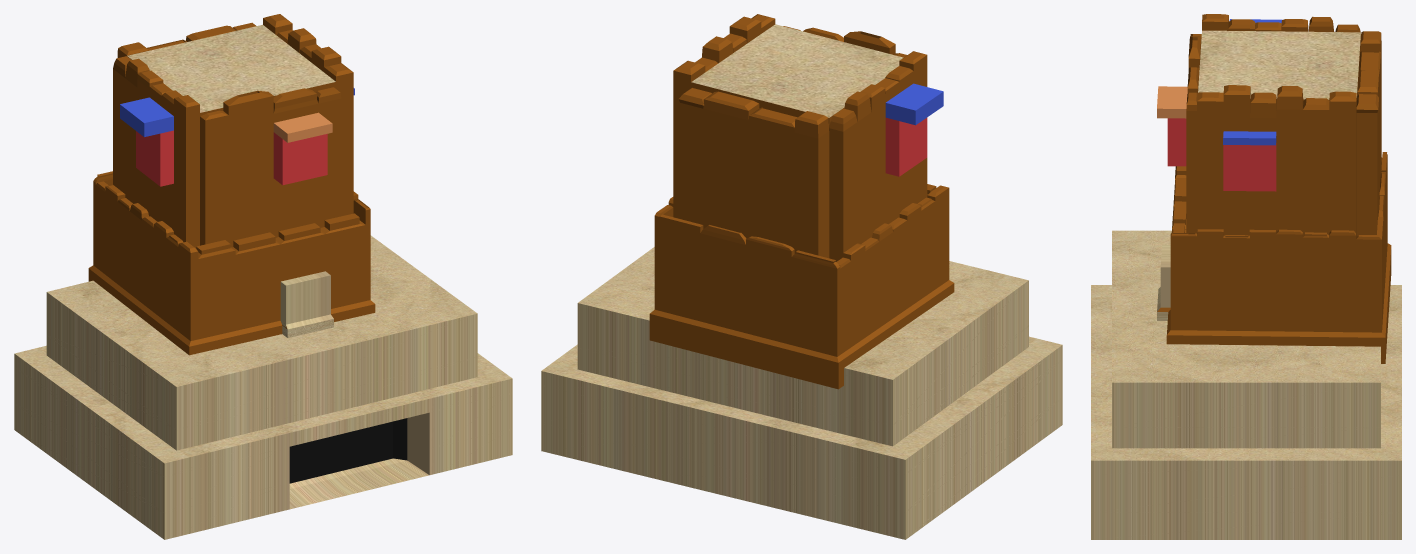
The model's file is temple1.fbx.
3 renders of one model, left to right at view 1: azimuth 30°, elevation 25°; view 2: azimuth 150°, elevation 25°; view 3: azimuth 270°, elevation 25°, orthographic. The views are drawn at different scales.
Visible parts, largest first — view 1: Plane.002; view 2: Plane.002; view 3: Plane.002.
Part boxes in pixels (left/top/right/bottom): Plane.002: left=14, top=14, right=512, bottom=539; Plane.002: left=541, top=14, right=1062, bottom=539; Plane.002: left=1091, top=14, right=1401, bottom=539.
Size of the model in its own units: 514 by 537 by 384.
